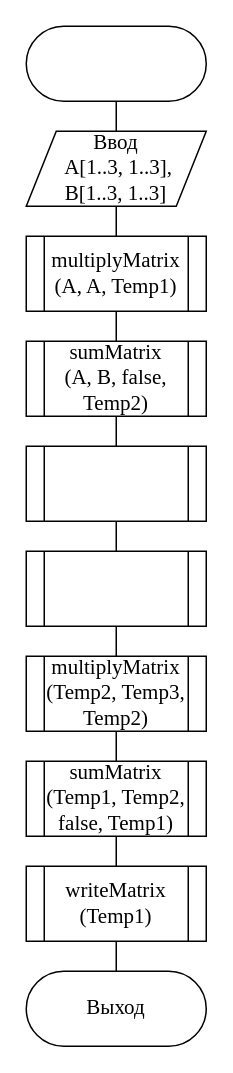
Some shapes in this 233 by 1073 pixel diagram are drawn without their labels. Here are the shapes that lost their labels. From the top down, the centre of each, then its label:
the point at 115,63: Вход
the point at 115,483: multiplyNum (B, 3, Temp3)
the point at 115,588: sumMatrix (A, Temp3, true, Temp3)
